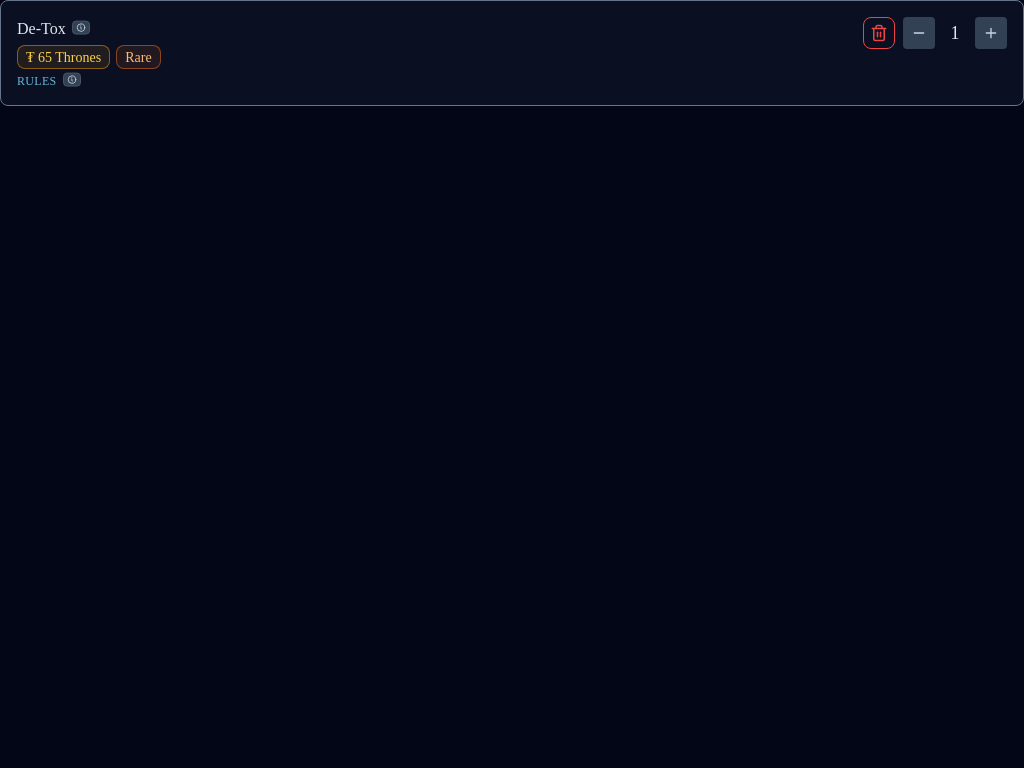
DrugRow › says no description was recorded for a drug without notes
Click the button named "Show information about De-Tox" at (81, 28), box [72,21,90,35]
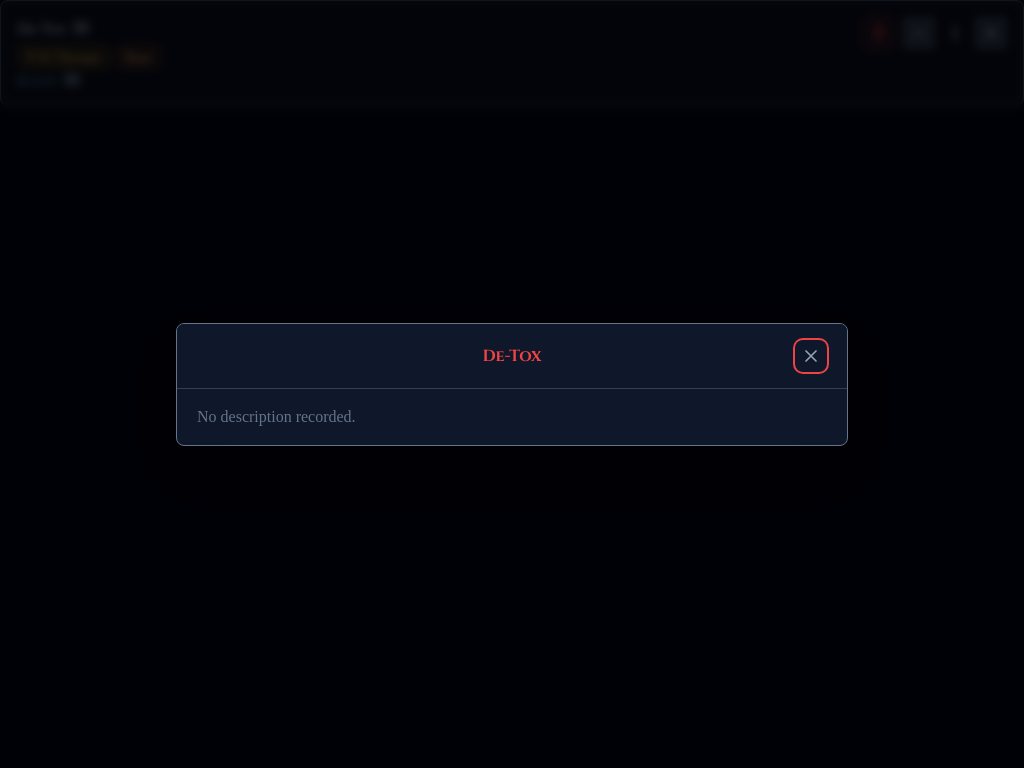
Expected: the text "No description recorded." is shown, [197,408,356,424]
